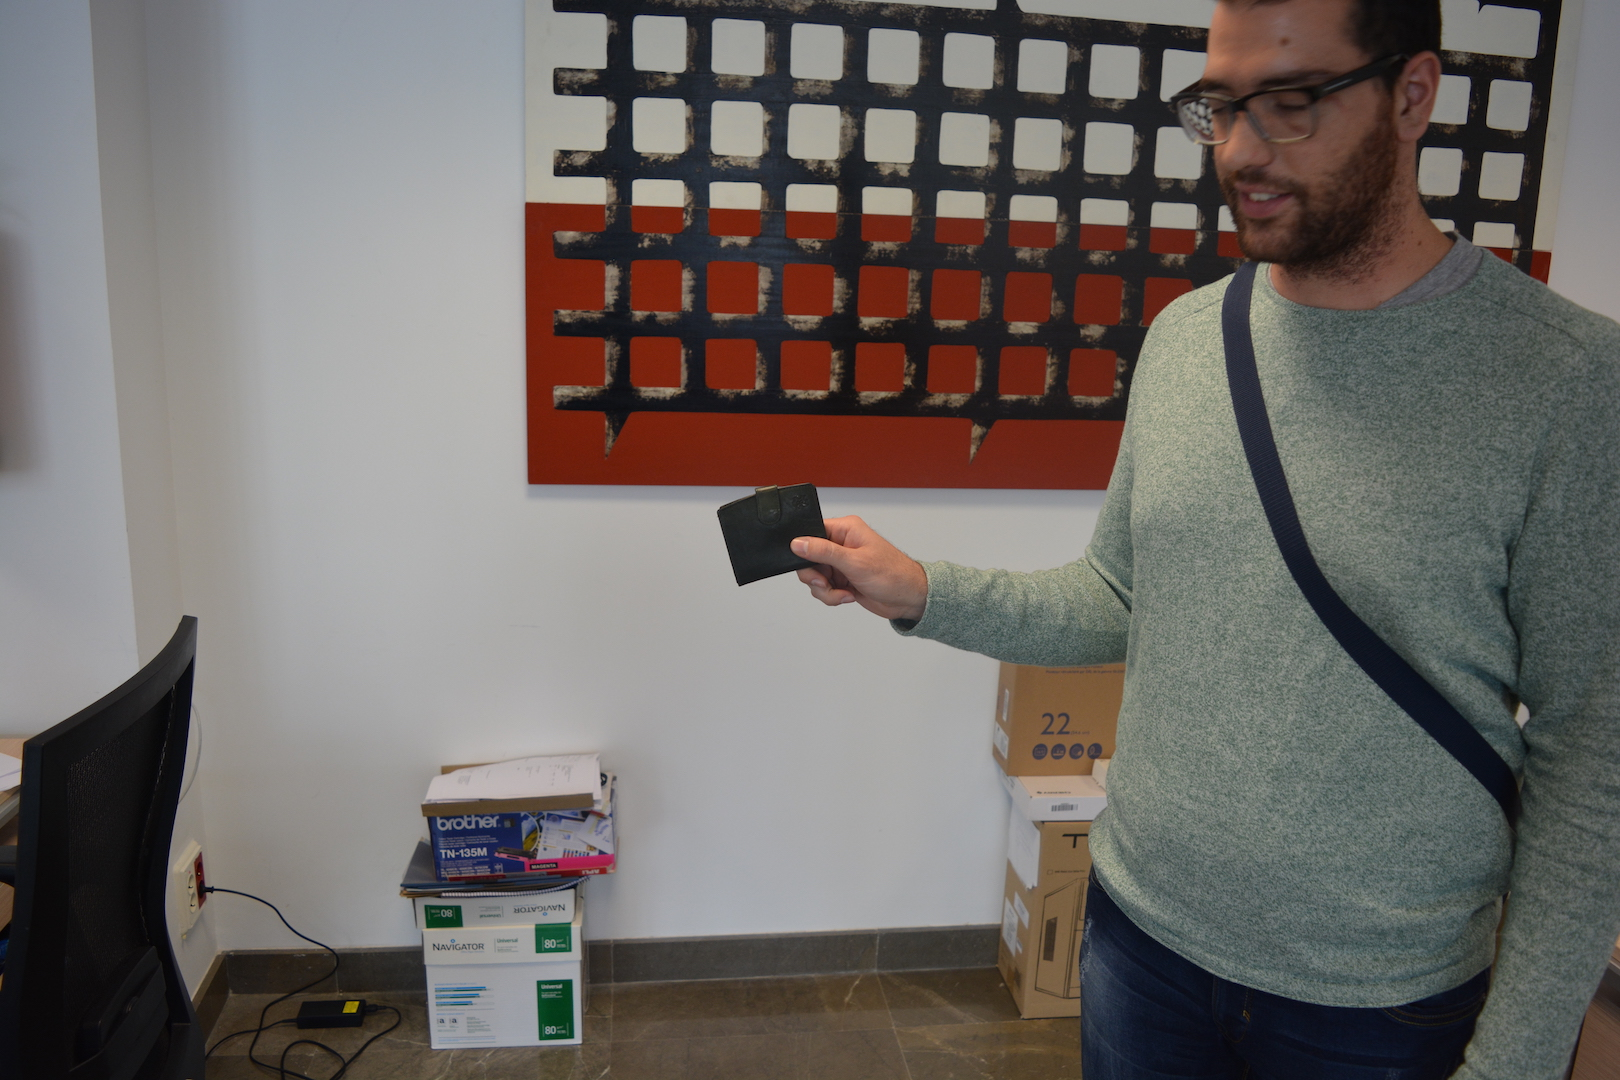monedero: (717, 483, 829, 585)
